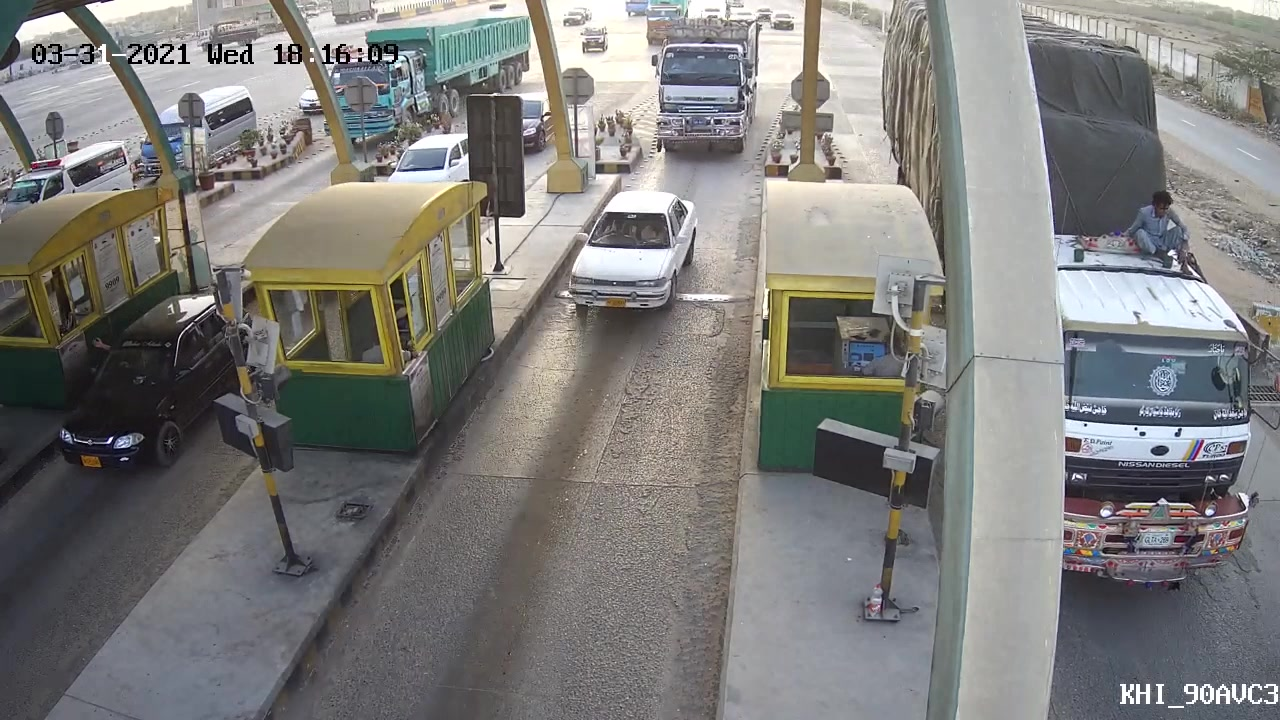F1: (555, 188, 699, 324)
